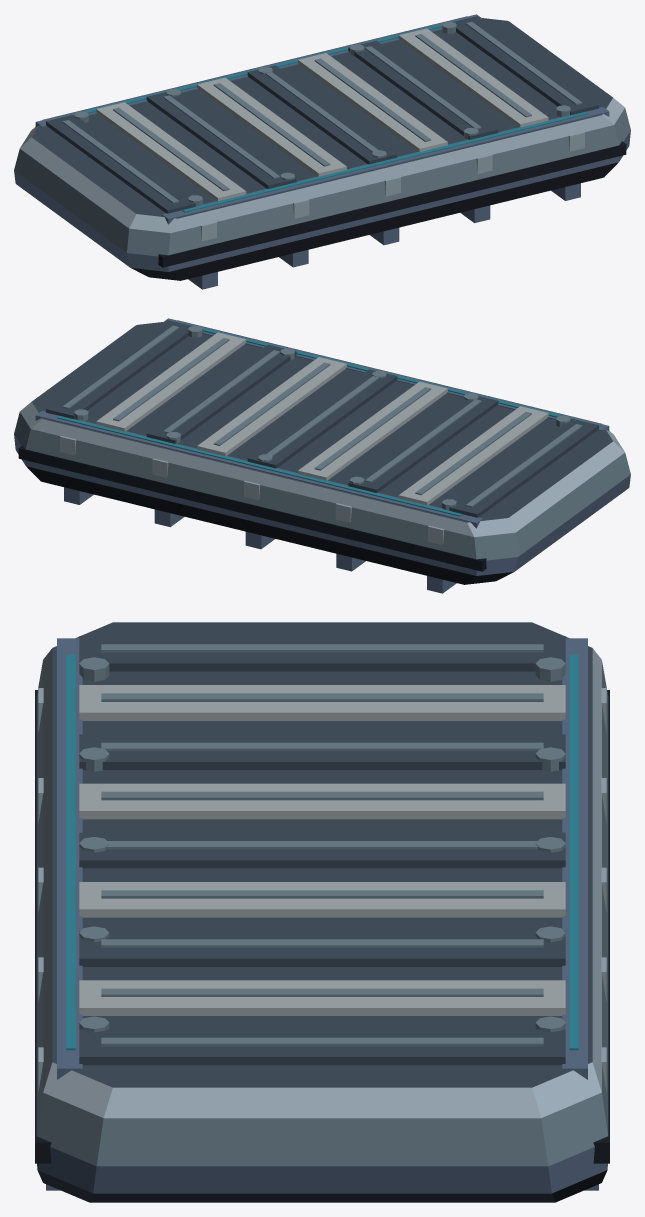
The model's file is chaos_premium_skybridge_module.obj.
The picture shows the model from 3 angles, top to bottom: view 1: azimuth 30°, elevation 25°; view 2: azimuth 150°, elevation 25°; view 3: azimuth 270°, elevation 25°; orthographic projection. The views are drawn at different scales.
Parts seen in each view (by area): view 1: Chaos_GRIP, Chaos_ALLOY, Chaos_CERAMIC, Chaos_CARBON, Chaos_BRUSHED, Chaos_ARMOR, Chaos_SIGNAL; view 2: Chaos_GRIP, Chaos_ALLOY, Chaos_CERAMIC, Chaos_CARBON, Chaos_BRUSHED, Chaos_ARMOR, Chaos_SIGNAL; view 3: Chaos_GRIP, Chaos_ALLOY, Chaos_CERAMIC, Chaos_ARMOR, Chaos_BRUSHED, Chaos_CARBON, Chaos_SIGNAL.
Boxes of the visible parts, x1,y1,x2,y2 form: Chaos_GRIP: [32, 16, 612, 218]; Chaos_ALLOY: [14, 21, 630, 256]; Chaos_CERAMIC: [96, 28, 548, 201]; Chaos_CARBON: [131, 141, 626, 280]; Chaos_BRUSHED: [20, 98, 624, 241]; Chaos_ARMOR: [14, 14, 630, 289]; Chaos_SIGNAL: [57, 19, 587, 212]; Chaos_GRIP: [32, 320, 612, 522]; Chaos_ALLOY: [14, 325, 630, 560]; Chaos_CERAMIC: [96, 332, 548, 505]; Chaos_CARBON: [18, 445, 513, 584]; Chaos_BRUSHED: [20, 402, 624, 545]; Chaos_ARMOR: [14, 318, 630, 593]; Chaos_SIGNAL: [57, 323, 587, 516]; Chaos_GRIP: [52, 622, 592, 1087]; Chaos_ALLOY: [36, 644, 608, 1166]; Chaos_CERAMIC: [79, 685, 565, 1015]; Chaos_ARMOR: [37, 638, 607, 1193]; Chaos_BRUSHED: [38, 648, 606, 1118]; Chaos_CARBON: [35, 690, 609, 1202]; Chaos_SIGNAL: [66, 654, 578, 1050].
Bounding box in the file's own units: 10 × 1.54 × 4.94.
